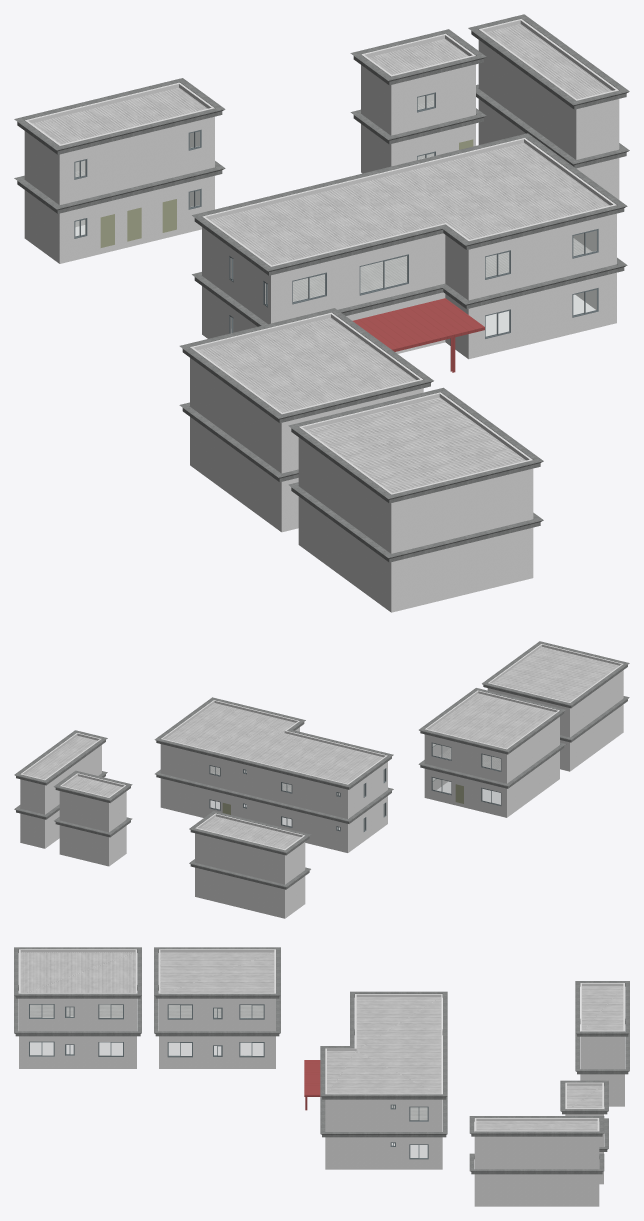
File: Plan(REF)_levels(2)_window(REF)_wall(WAFRA WALL)_quoin(N)_cornice(Y).fbx
3 renders of one model, top to bottom at view 1: azimuth 30°, elevation 25°; view 2: azimuth 150°, elevation 25°; view 3: azimuth 270°, elevation 25°, orthographic. The views are drawn at different scales.
Parts seen in each view (by area): view 1: WAFRA Stucco - White Rough 23, WAFRA Roof - Corrugated Sheet Matte 23, Concrete - Structural, Glass - Clear, WAFRA Roof - Standing Seam Red Coat 23, Metal - Finish - Aluminum, Color - Beige; view 2: WAFRA Stucco - White Rough 23, WAFRA Roof - Corrugated Sheet Matte 23, Concrete - Structural, Glass - Clear, Metal - Finish - Aluminum; view 3: WAFRA Stucco - White Rough 23, WAFRA Roof - Corrugated Sheet Matte 23, Concrete - Structural, Glass - Clear, Metal - Finish - Aluminum, WAFRA Roof - Standing Seam Red Coat 23.
Part boxes in pixels (x1,y1,x2,y2): WAFRA Stucco - White Rough 23: [24, 19, 619, 612]; WAFRA Roof - Corrugated Sheet Matte 23: [32, 24, 611, 492]; Concrete - Structural: [14, 14, 629, 562]; Glass - Clear: [75, 94, 596, 336]; WAFRA Roof - Standing Seam Red Coat 23: [353, 298, 484, 372]; Metal - Finish - Aluminum: [74, 92, 598, 338]; Color - Beige: [100, 139, 473, 247]; WAFRA Stucco - White Rough 23: [20, 644, 623, 918]; WAFRA Roof - Corrugated Sheet Matte 23: [24, 647, 618, 849]; Concrete - Structural: [14, 641, 629, 889]; Glass - Clear: [210, 743, 500, 830]; Metal - Finish - Aluminum: [209, 742, 501, 831]; WAFRA Stucco - White Rough 23: [19, 949, 624, 1206]; WAFRA Roof - Corrugated Sheet Matte 23: [20, 952, 623, 1130]; Concrete - Structural: [14, 947, 629, 1174]; Glass - Clear: [30, 1005, 427, 1157]; Metal - Finish - Aluminum: [29, 1004, 428, 1159]; WAFRA Roof - Standing Seam Red Coat 23: [304, 1060, 320, 1110].
Bounding box in the file's own units: 4244 × 5930 × 800.
Materials: 12 (5 with a texture image).
